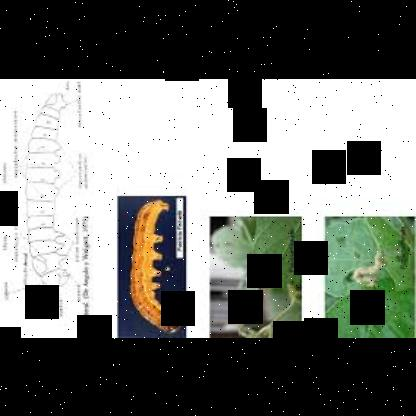agujero: (342, 266, 356, 284), (334, 236, 348, 247)
oruga: (125, 195, 189, 325), (352, 246, 394, 290), (246, 258, 270, 300)
